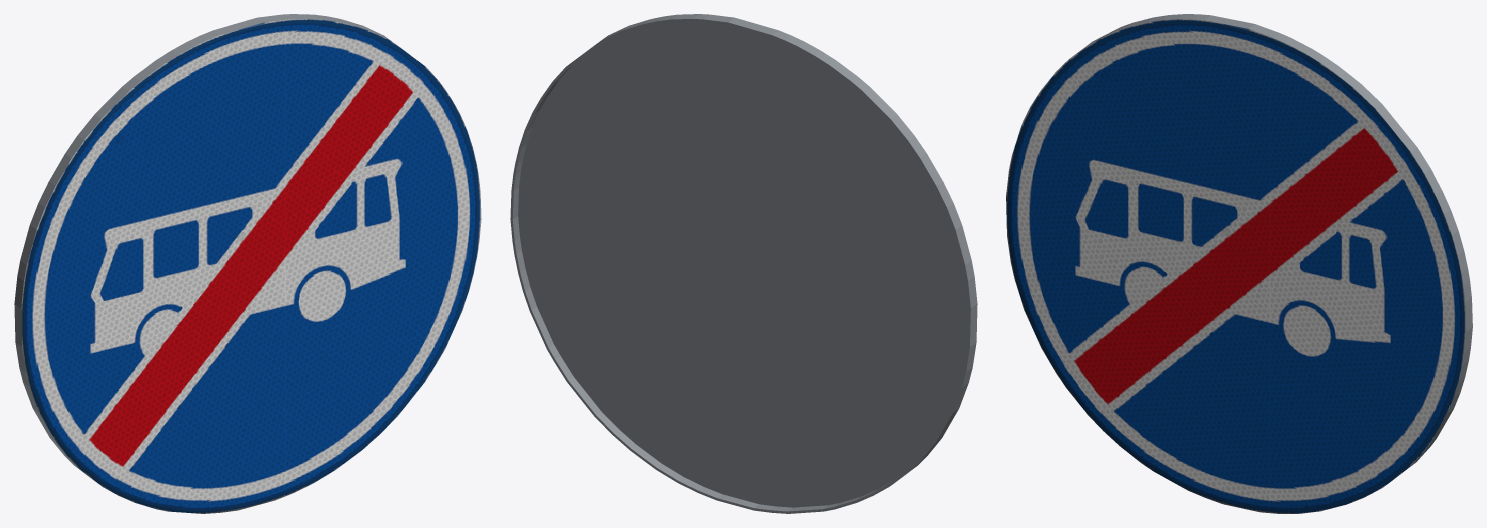
The picture shows the model from 3 angles, left to right: view 1: azimuth 30°, elevation 25°; view 2: azimuth 150°, elevation 25°; view 3: azimuth 330°, elevation 25°; orthographic projection.
Visible parts, largest first — view 1: cat_eb213333f46f82f0; view 2: cat_eb213333f46f82f0; view 3: cat_eb213333f46f82f0.
Boxes of the visible parts, x1,y1,x2,y2 form: cat_eb213333f46f82f0: [14, 14, 481, 513]; cat_eb213333f46f82f0: [510, 14, 977, 513]; cat_eb213333f46f82f0: [1006, 14, 1472, 513].
Size of the model in its own units: 0.6 by 0.015 by 0.6.
Materials: 2 (1 with a texture image).
